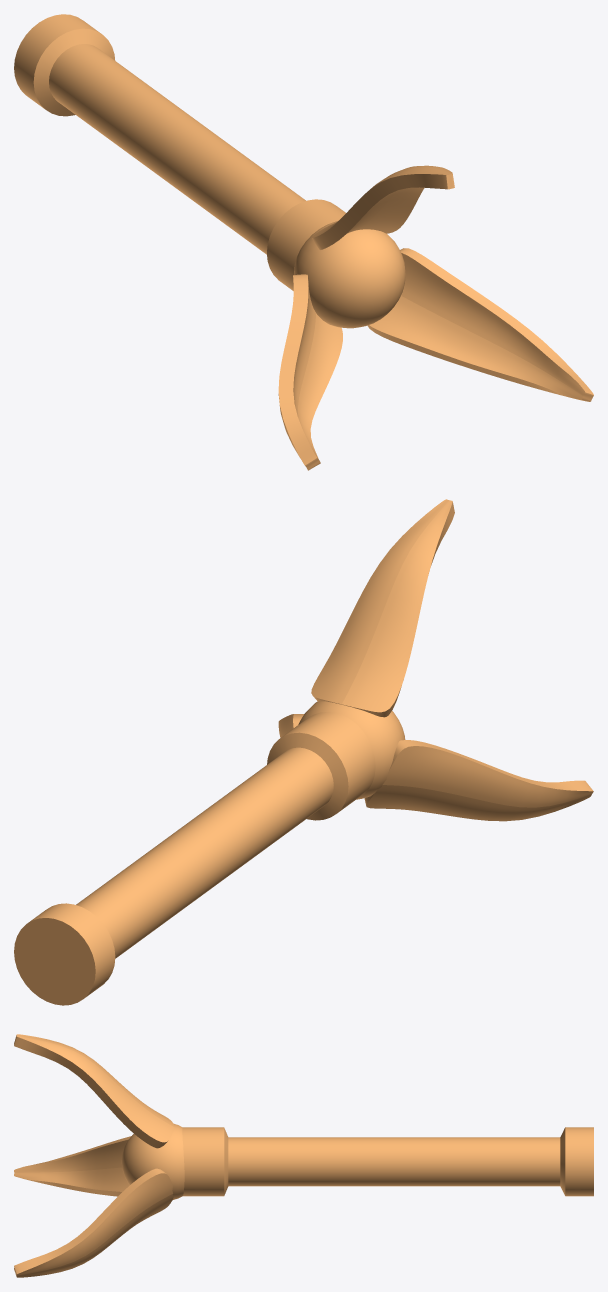
The model's file is Claw.fbx.
3 renders of one model, top to bottom at view 1: azimuth 30°, elevation 25°; view 2: azimuth 150°, elevation 25°; view 3: azimuth 270°, elevation 25°, orthographic. The views are drawn at different scales.
Visible parts, largest first — view 1: Claw Attachment Length.004, Claws.004, Claw Pivot.004; view 2: Claw Attachment Length.004, Claws.004, Claw Pivot.004; view 3: Claw Attachment Length.004, Claws.004, Claw Pivot.004.
Part boxes in pixels (x1,y1,x2,y2): Claw Attachment Length.004: [14, 14, 345, 290]; Claws.004: [278, 165, 593, 470]; Claw Pivot.004: [294, 221, 405, 328]; Claw Attachment Length.004: [14, 712, 375, 1005]; Claws.004: [278, 499, 593, 821]; Claw Pivot.004: [298, 701, 405, 799]; Claw Attachment Length.004: [182, 1127, 593, 1196]; Claws.004: [14, 1034, 174, 1277]; Claw Pivot.004: [121, 1123, 184, 1199].
Size of the model in its own units: 283 by 249 by 672.
